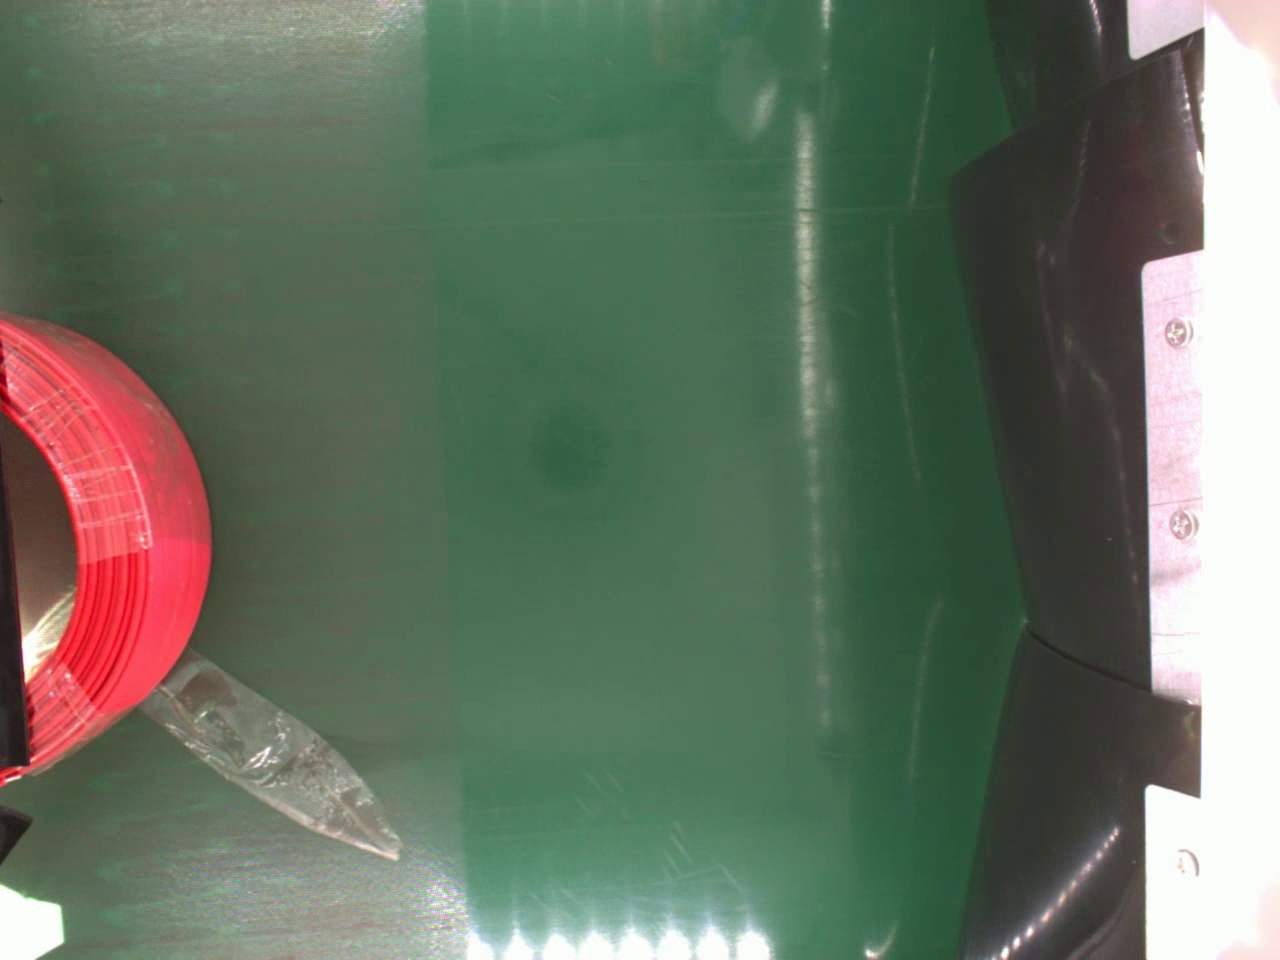red: (0, 307, 212, 782)
